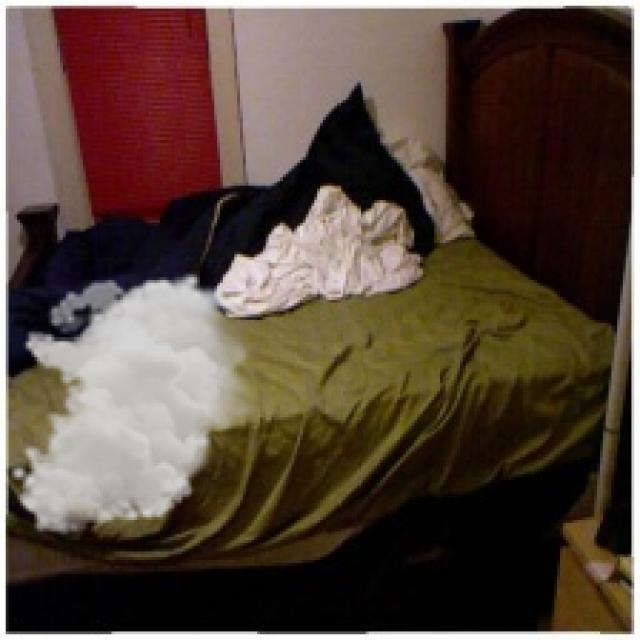Smoke: (8, 272, 260, 534)
